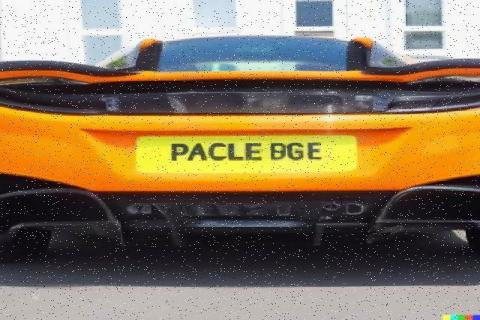LicensePlate: (134, 134, 357, 173)
